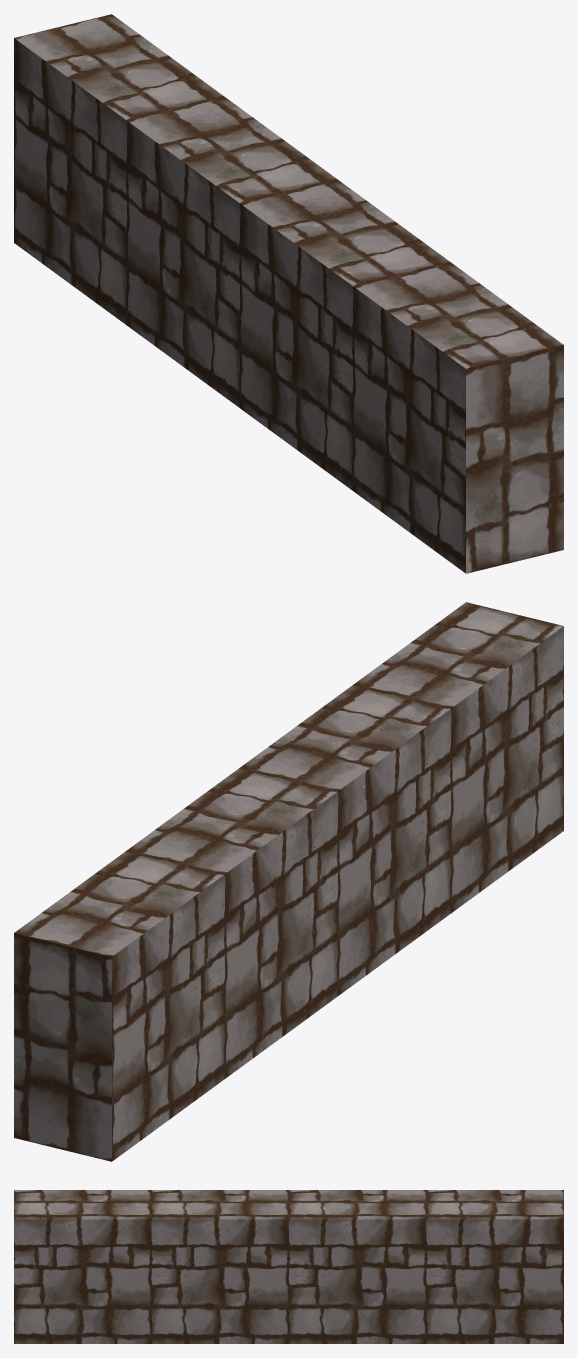
The model's file is Half Wall.fbx.
3 views of the same model, one above another, from view 1: azimuth 30°, elevation 25°; view 2: azimuth 150°, elevation 25°; view 3: azimuth 270°, elevation 25° (orthographic). The views are drawn at different scales.
Visible parts, largest first — view 1: Cube; view 2: Cube; view 3: Cube.
Boxes of the visible parts, box(x1,y1,x2,y2) form: Cube: box(14, 14, 563, 573); Cube: box(14, 602, 563, 1161); Cube: box(14, 1190, 563, 1343).
Bounding box in the file's own units: 100 × 200 × 800.
